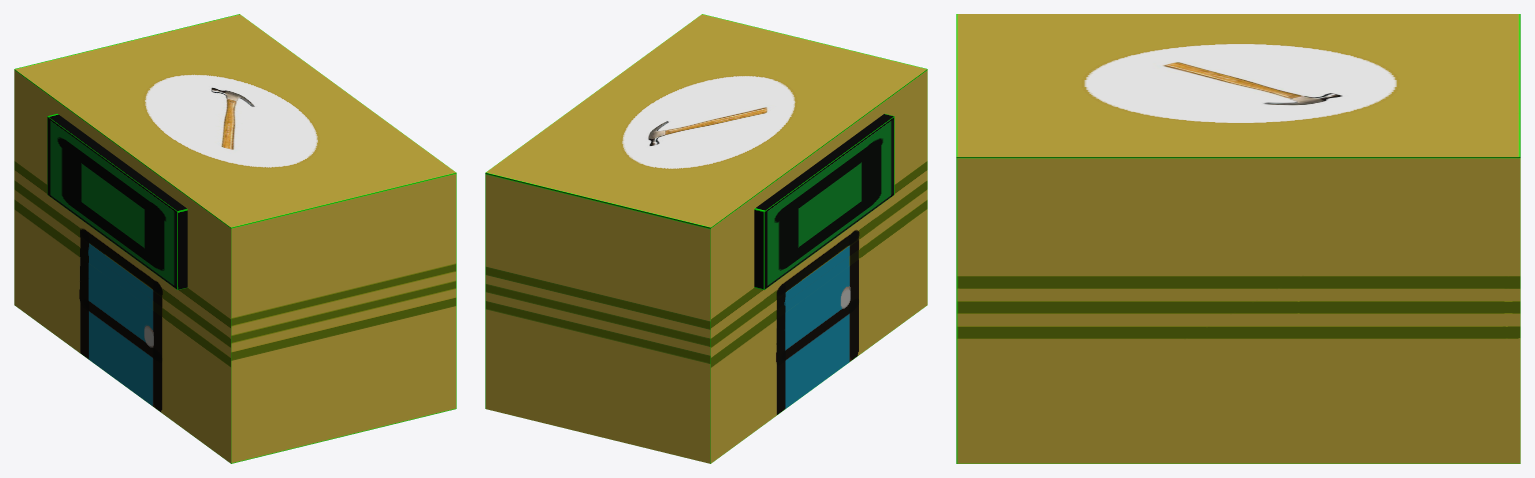
Rendered from Hardware.FBX.
The picture shows the model from 3 angles, left to right: view 1: azimuth 30°, elevation 25°; view 2: azimuth 150°, elevation 25°; view 3: azimuth 270°, elevation 25°; orthographic projection. The views are drawn at different scales.
Parts seen in each view (by area): view 1: Box002; view 2: Box002; view 3: Box002.
Part boxes in pixels (x1,y1,x2,y2): Box002: (14,14,456,463); Box002: (485,14,927,463); Box002: (956,14,1520,463).
Bounding box in the file's own units: 15.68 × 15 × 25.
